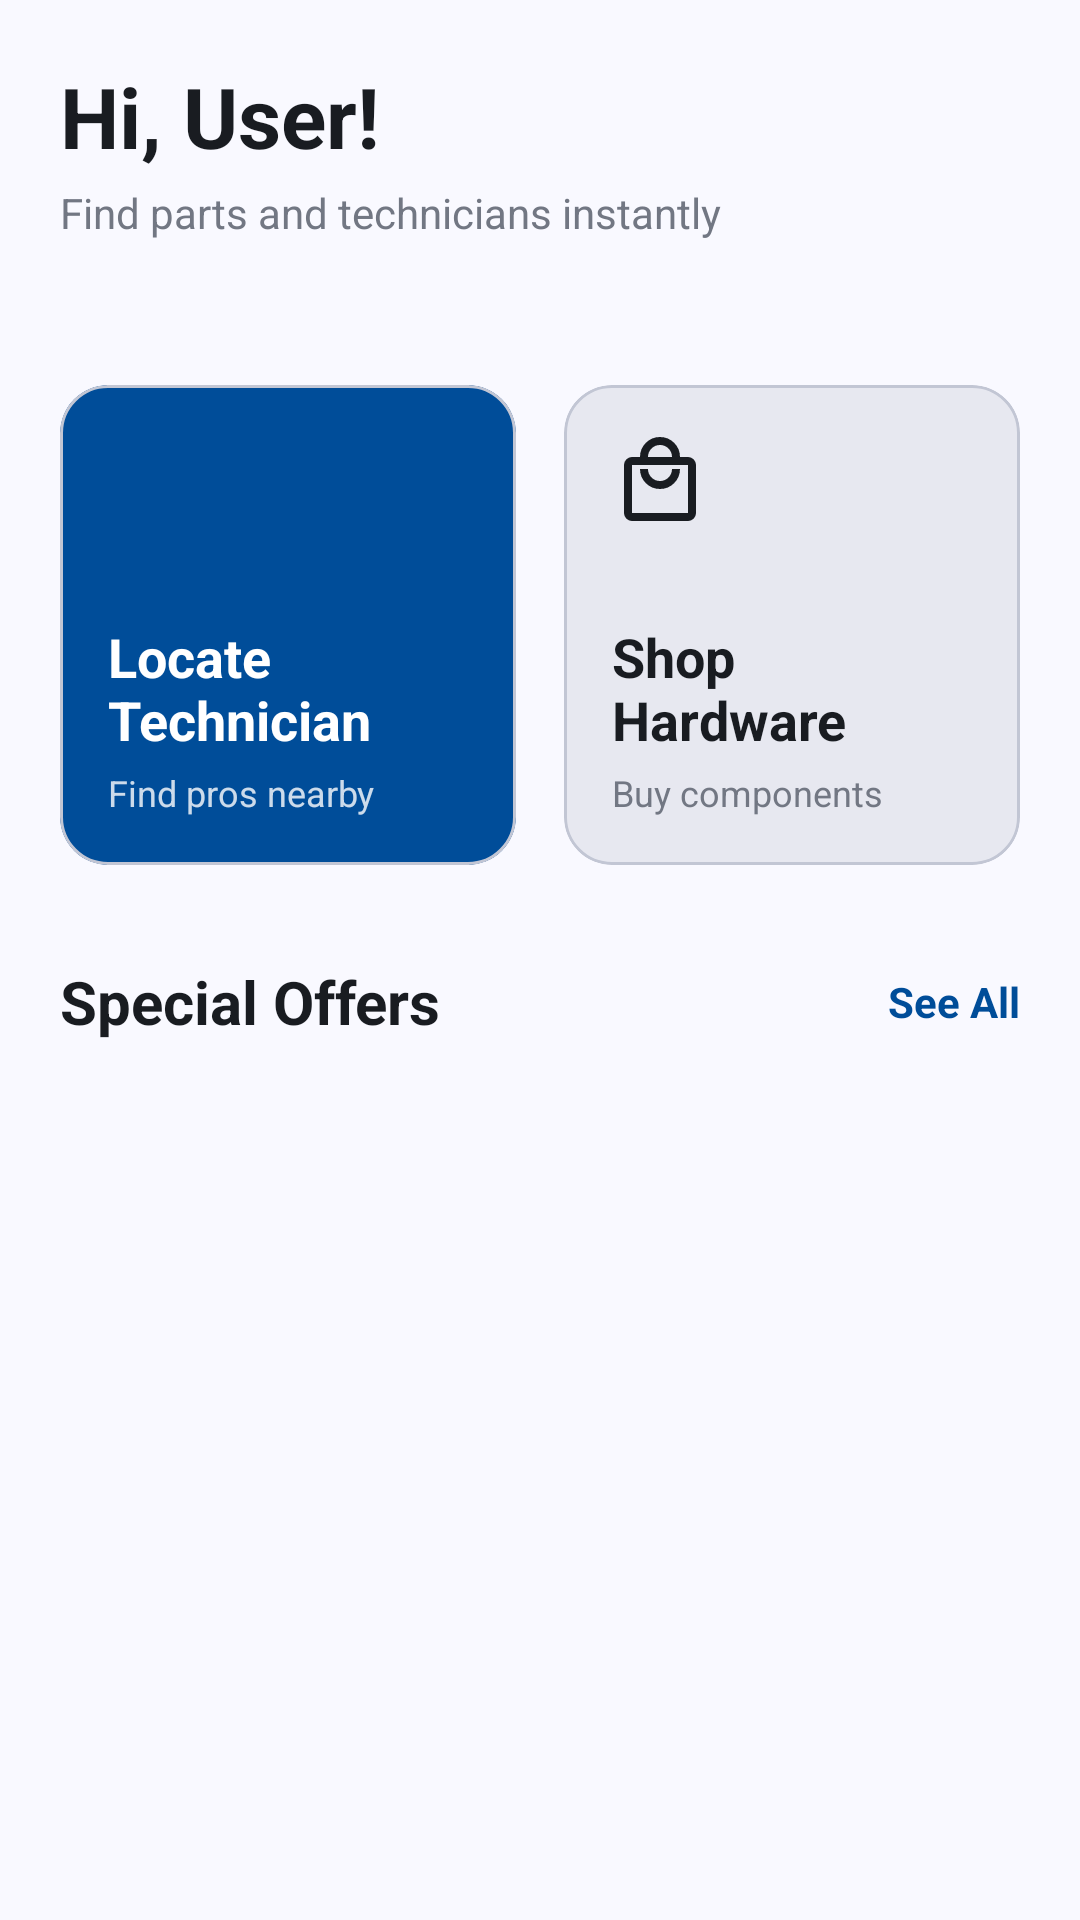

Icon bounding boxes for this 1080px x 1920px phone screenshot, format (x1, y1, x2, y2):
shopping bag: (624, 437, 696, 521)
